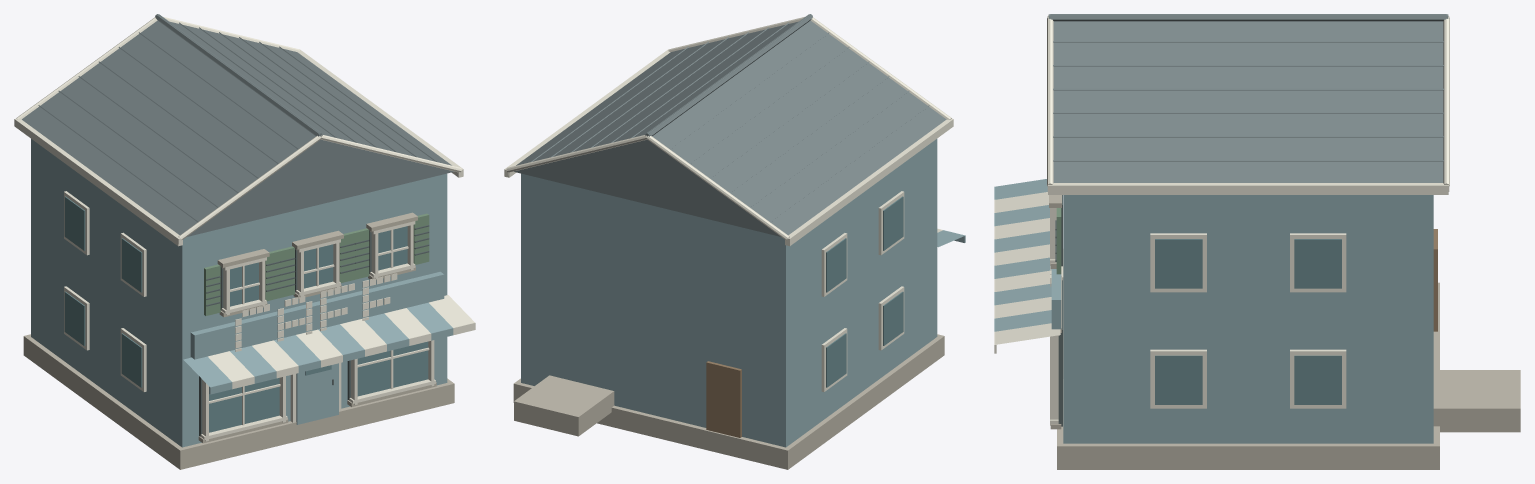
The picture shows the model from 3 angles, left to right: view 1: azimuth 30°, elevation 25°; view 2: azimuth 150°, elevation 25°; view 3: azimuth 270°, elevation 25°; orthographic projection. The views are drawn at different scales.
Size of the model in its own units: 9.26 by 9.47 by 12.09.
